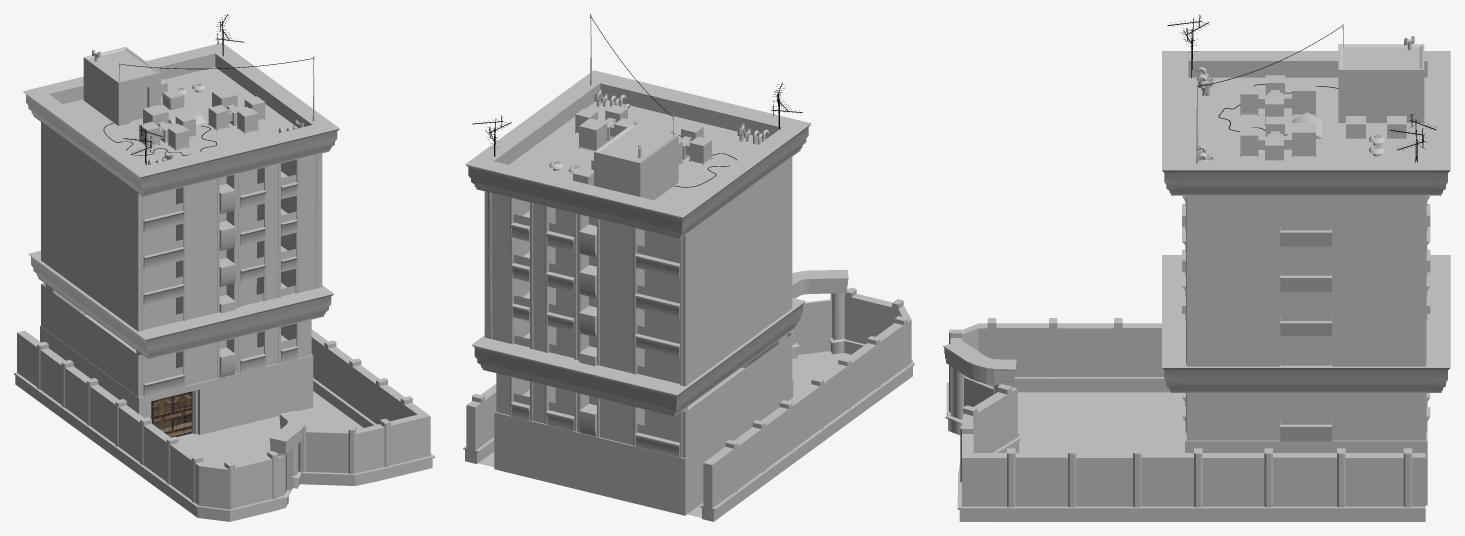
Rendered from Building.FBX.
The picture shows the model from 3 angles, left to right: view 1: azimuth 30°, elevation 25°; view 2: azimuth 150°, elevation 25°; view 3: azimuth 270°, elevation 25°; orthographic projection. The views are drawn at different scales.
Visible parts, largest first — view 1: Building00, Building04, Building01, Building02, Building03, Building08, Building05, Building21, Building14; view 2: Building00, Building01, Building04, Building03, Building02, Building08, Building21, Building05, Building14; view 3: Building04, Building00, Building01, Building02, Building05, Building08, Building03, Building21, Building14.
Boxes of the visible parts, left/top/right/bottom form: Building00: left=41, top=122, right=322, bottom=331; Building04: left=14, top=329, right=434, bottom=521; Building01: left=23, top=43, right=339, bottom=359; Building02: left=41, top=283, right=311, bottom=397; Building03: left=40, top=314, right=313, bottom=437; Building08: left=83, top=47, right=160, bottom=125; Building05: left=176, top=391, right=363, bottom=466; Building21: left=208, top=88, right=265, bottom=134; Building14: left=139, top=105, right=196, bottom=151; Building00: left=484, top=157, right=792, bottom=386; Building01: left=465, top=70, right=811, bottom=416; Building04: left=463, top=269, right=914, bottom=521; Building03: left=494, top=367, right=793, bottom=515; Building02: left=496, top=333, right=792, bottom=457; Building08: left=594, top=116, right=678, bottom=200; Building21: left=575, top=104, right=636, bottom=150; Building05: left=478, top=351, right=850, bottom=517; Building14: left=656, top=123, right=712, bottom=165; Building04: left=943, top=318, right=1425, bottom=521; Building00: left=1182, top=195, right=1430, bottom=366; Building01: left=1162, top=51, right=1450, bottom=392; Building02: left=1182, top=393, right=1430, bottom=441; Building05: left=1017, top=392, right=1184, bottom=452; Building08: left=1338, top=24, right=1424, bottom=122; Building03: left=1185, top=402, right=1427, bottom=505; Building21: left=1239, top=116, right=1316, bottom=160; Building14: left=1239, top=75, right=1316, bottom=125.
Bounding box in the file's own units: 808 × 1256 × 1160.
